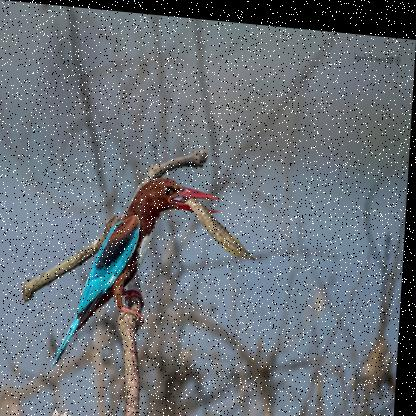Burung: (54, 166, 224, 380)
